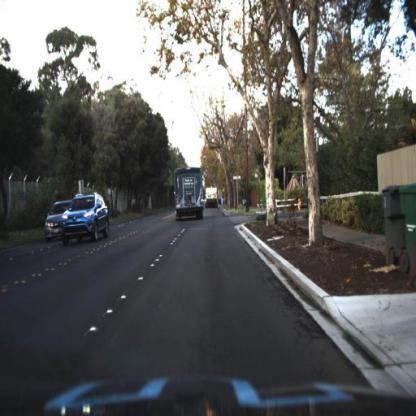car: (61, 194, 111, 251), (45, 200, 77, 241)
truck: (174, 164, 205, 223), (204, 186, 222, 210)
